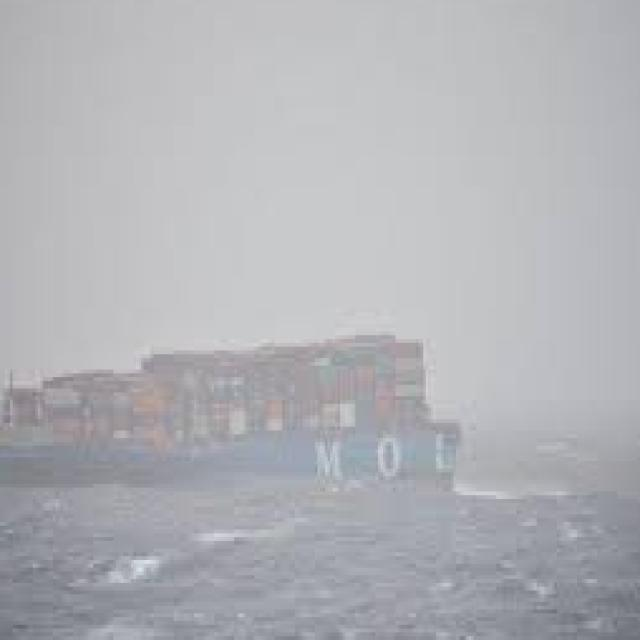cargoship: (0, 320, 451, 499)
